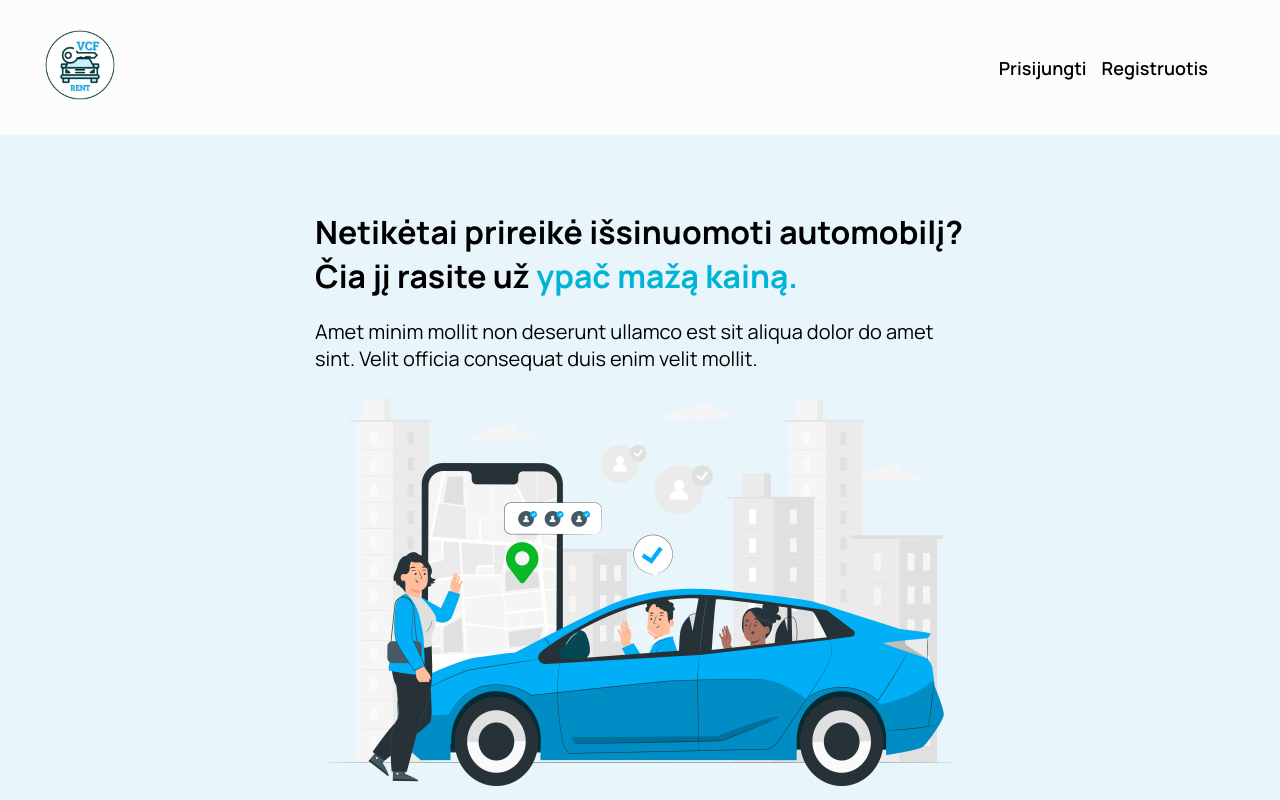
Test case: testing navbar › should toggle menu visibility when icon is clicked
This screenshot has width=1280, height=800.
Click the button at {"x": 1224, "y": 68}, box top-left (1208, 58), bottom-right (1240, 78)
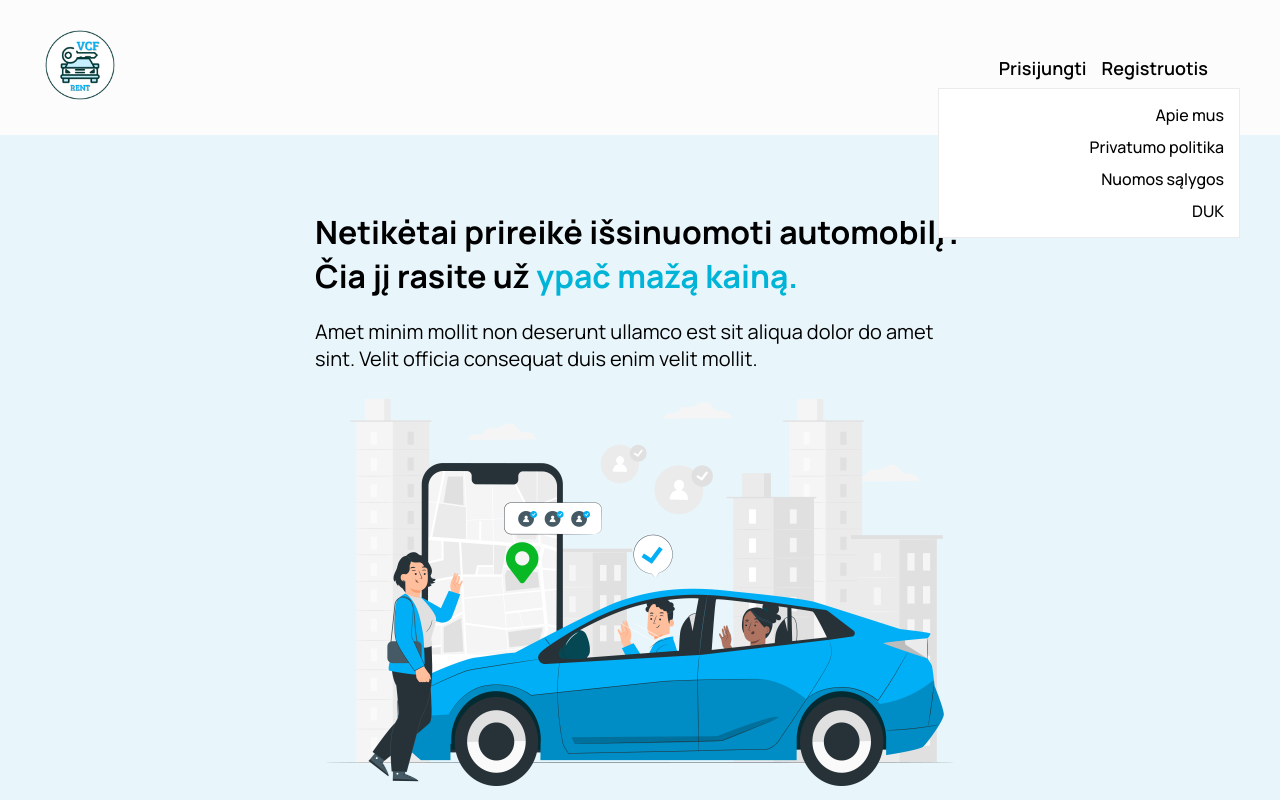
Expected: the element with class "myLinks" is shown, top-left (938, 88), bottom-right (1240, 238)
Click the button "Apie mus Privatumo politika Nuomos sąlygos DUK" at {"x": 1224, "y": 68}, box top-left (1208, 58), bottom-right (1240, 78)
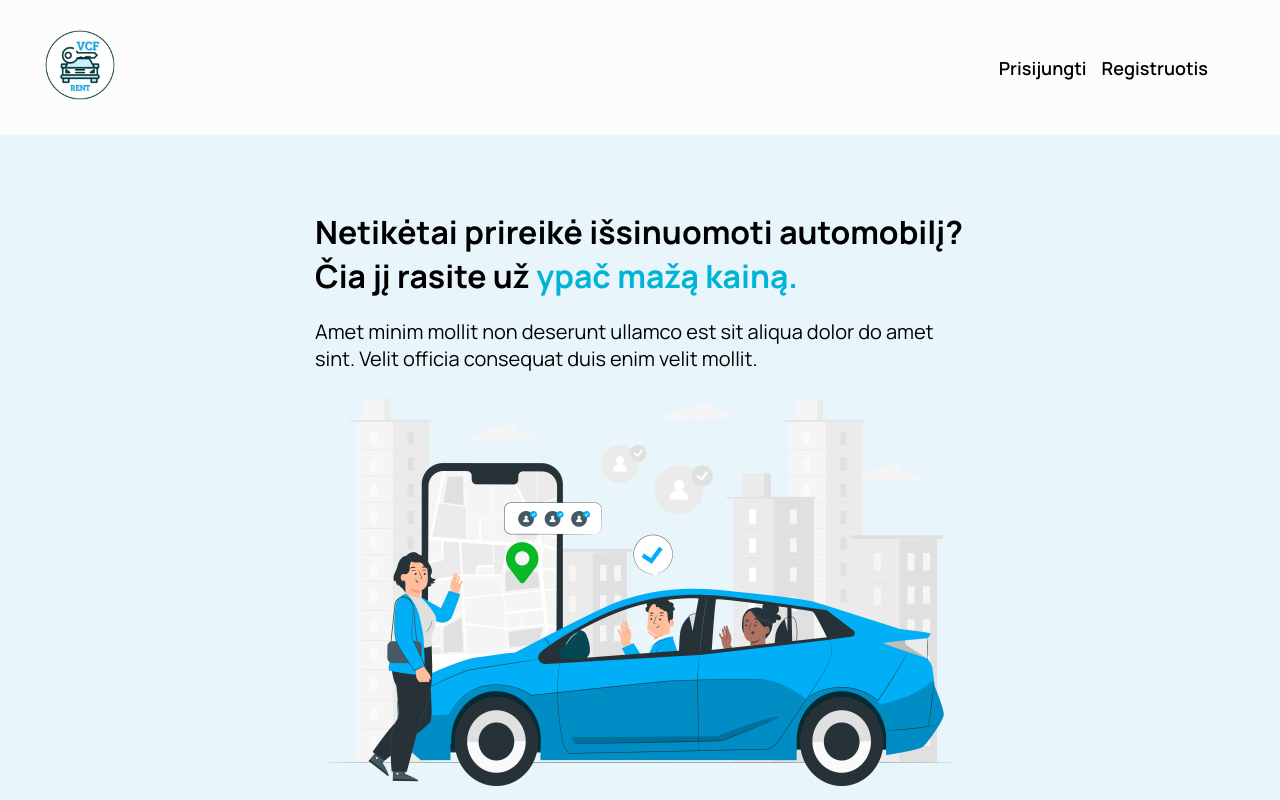
Expected: the element with class "myLinks" is gone
